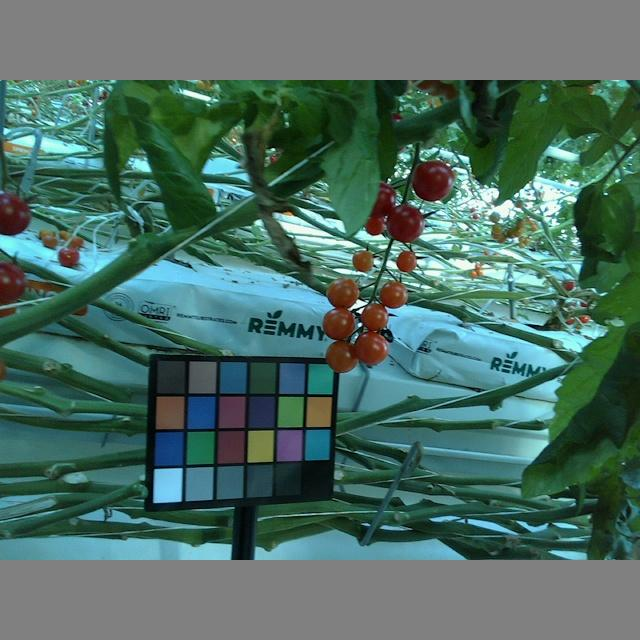pink: (321, 306, 357, 341), (355, 331, 389, 368), (326, 338, 360, 375), (327, 276, 361, 309), (360, 299, 389, 330), (380, 279, 409, 308), (365, 213, 387, 238), (352, 248, 374, 273), (397, 249, 417, 274), (37, 228, 57, 245)
red: (412, 158, 455, 201), (1, 189, 34, 239), (390, 202, 425, 243), (1, 259, 30, 306), (366, 180, 396, 214), (59, 244, 80, 267)
